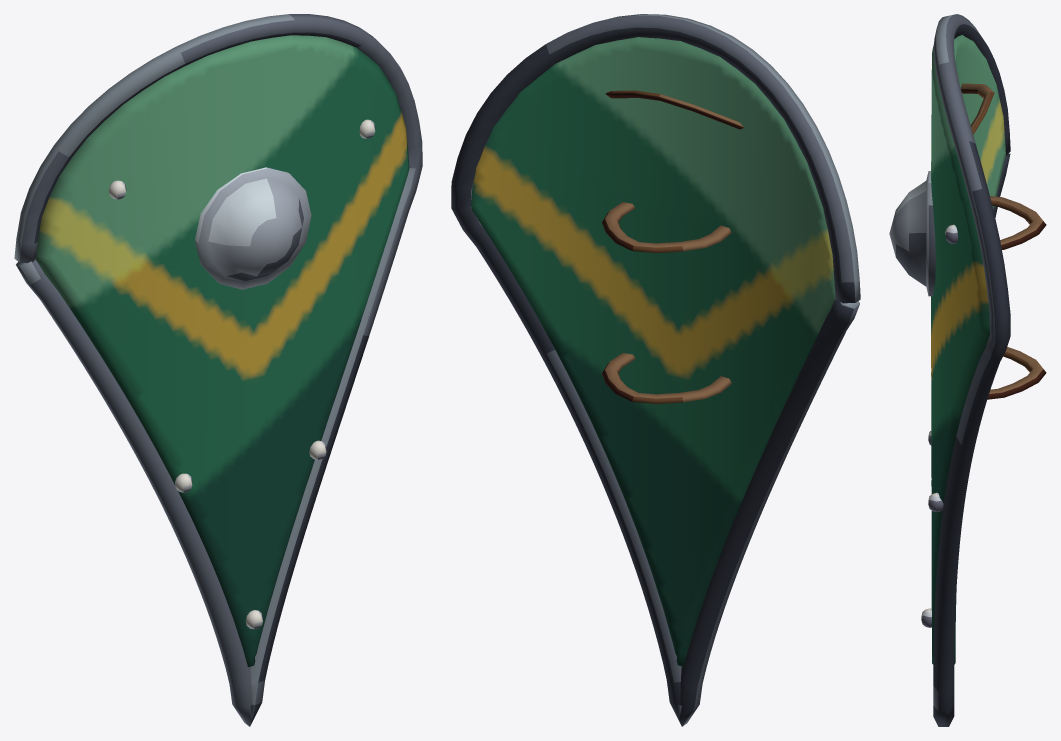
File: sh_kite_shield.glb
3 renders of one model, left to right at view 1: azimuth 30°, elevation 25°; view 2: azimuth 150°, elevation 25°; view 3: azimuth 270°, elevation 25°, orthographic. The views are drawn at different scales.
Visible parts, largest first — view 1: Weapon; view 2: Weapon; view 3: Weapon.
Boxes of the visible parts, <box> form: Weapon: <box>14,14,422,726</box>; Weapon: <box>451,14,860,726</box>; Weapon: <box>889,14,1046,726</box>.
Size of the model in its own units: 0.4208 by 0.7016 by 0.1446.
